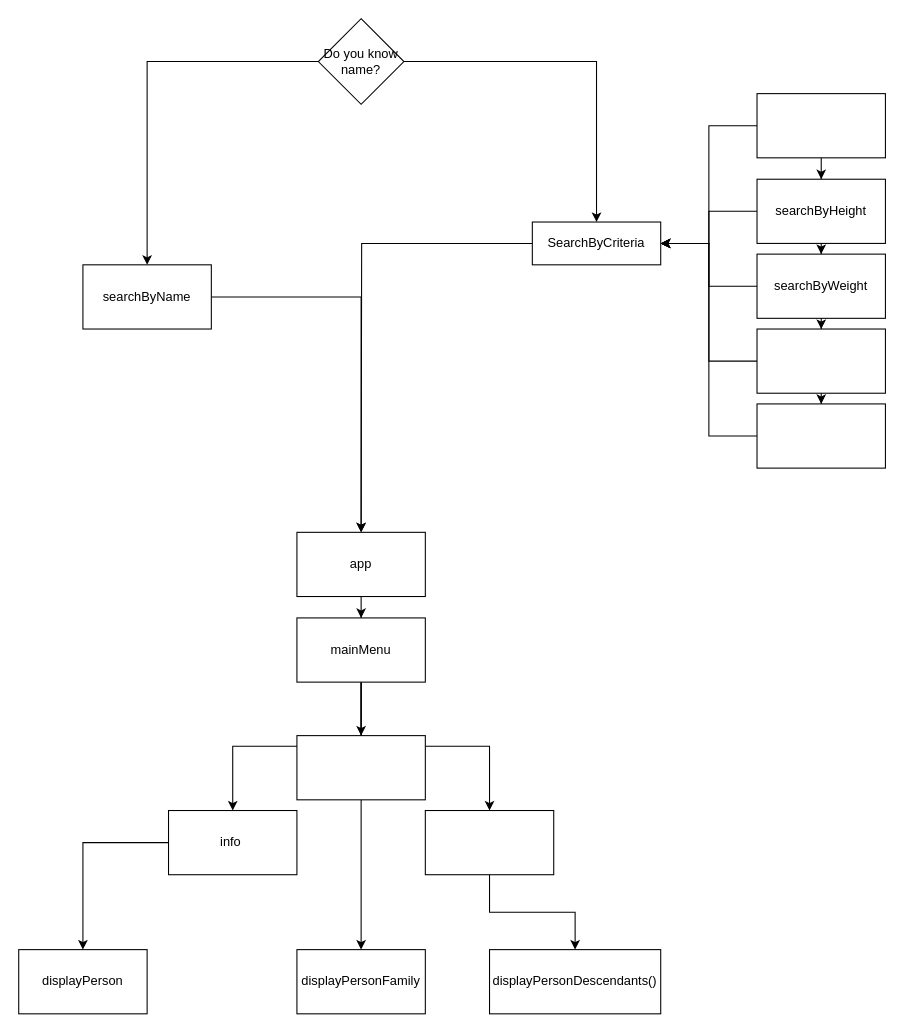
Image size: 904x1033. Some labels were removed from this diagram. Each missing label, with the box of its shape:
descendants(): (424, 809, 554, 875)
family (): (296, 735, 425, 800)
searchByEyeColor: (756, 93, 885, 158)
searchByGender: (756, 328, 885, 393)
searchByOccupation: (756, 403, 885, 468)
